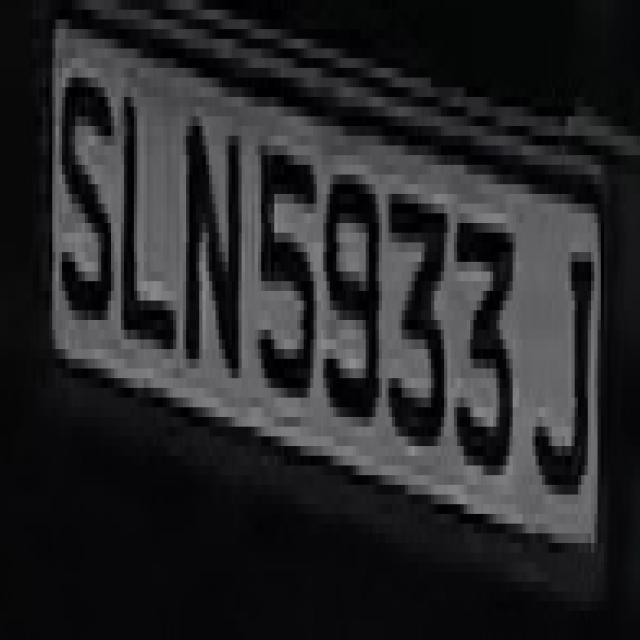3: (437, 165, 516, 494), (379, 155, 447, 475)
5: (252, 97, 324, 436)
9: (307, 136, 389, 475)
J: (529, 165, 601, 572)
L: (111, 78, 180, 368)
N: (164, 78, 252, 398)
S: (59, 39, 111, 339)
